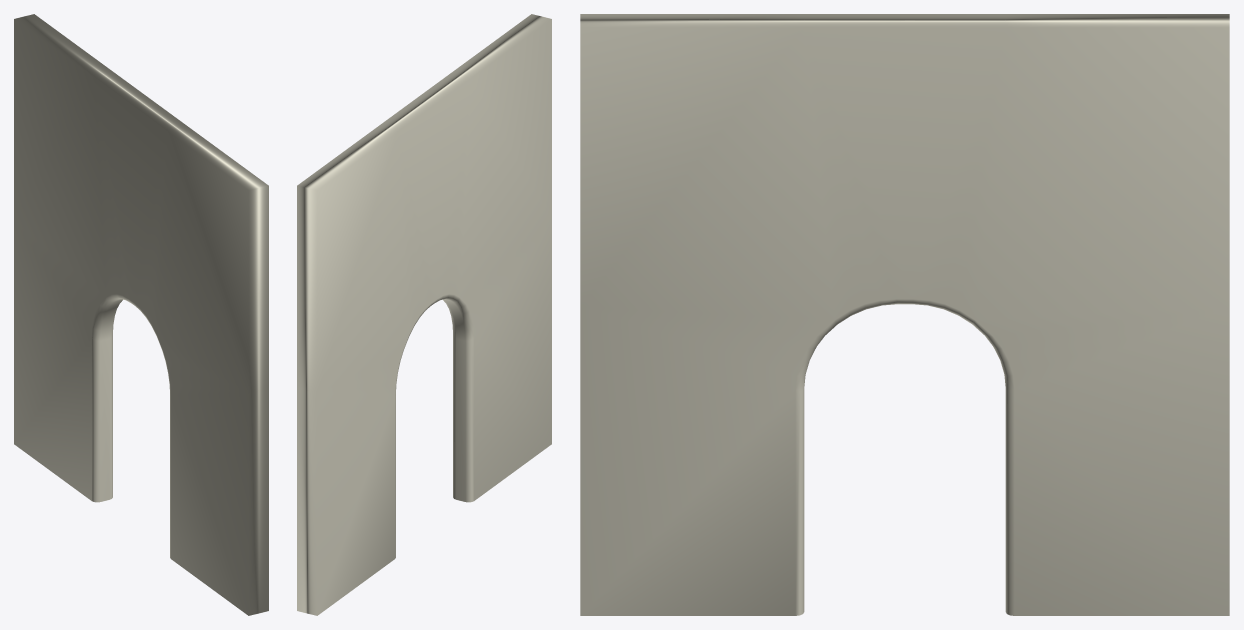
Rendered from door_pillar.fbx.
3 views of the same model, side by side, from view 1: azimuth 30°, elevation 25°; view 2: azimuth 150°, elevation 25°; view 3: azimuth 270°, elevation 25° (orthographic). The views are drawn at different scales.
Visible parts, largest first — view 1: Wall_Door_400x400; view 2: Wall_Door_400x400; view 3: Wall_Door_400x400.
Part boxes in pixels (x1,y1,x2,y2): Wall_Door_400x400: (14,14,268,615); Wall_Door_400x400: (297,14,551,615); Wall_Door_400x400: (580,14,1229,615).
Bounding box in the file's own units: 20 × 400 × 400.
